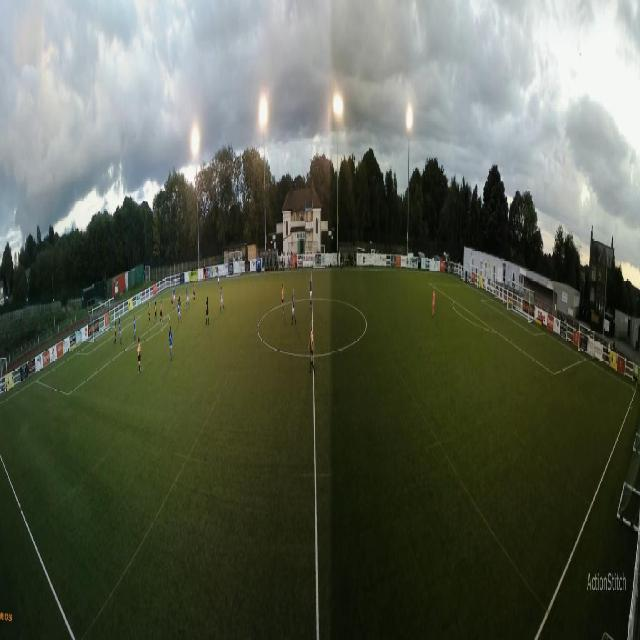ball: (185, 306, 187, 311)
player: (308, 318, 315, 376), (291, 289, 297, 329), (168, 323, 173, 362), (220, 287, 226, 315), (205, 295, 210, 327), (431, 286, 436, 317), (137, 337, 141, 375), (309, 273, 313, 309), (281, 282, 285, 316), (118, 317, 122, 345), (159, 299, 163, 326), (147, 299, 151, 325), (133, 315, 136, 345), (186, 288, 190, 309), (178, 299, 181, 326), (192, 282, 196, 302), (114, 319, 117, 344), (154, 300, 157, 324), (179, 291, 182, 312), (109, 311, 112, 332), (217, 269, 220, 289), (173, 287, 175, 307), (172, 292, 174, 311)
